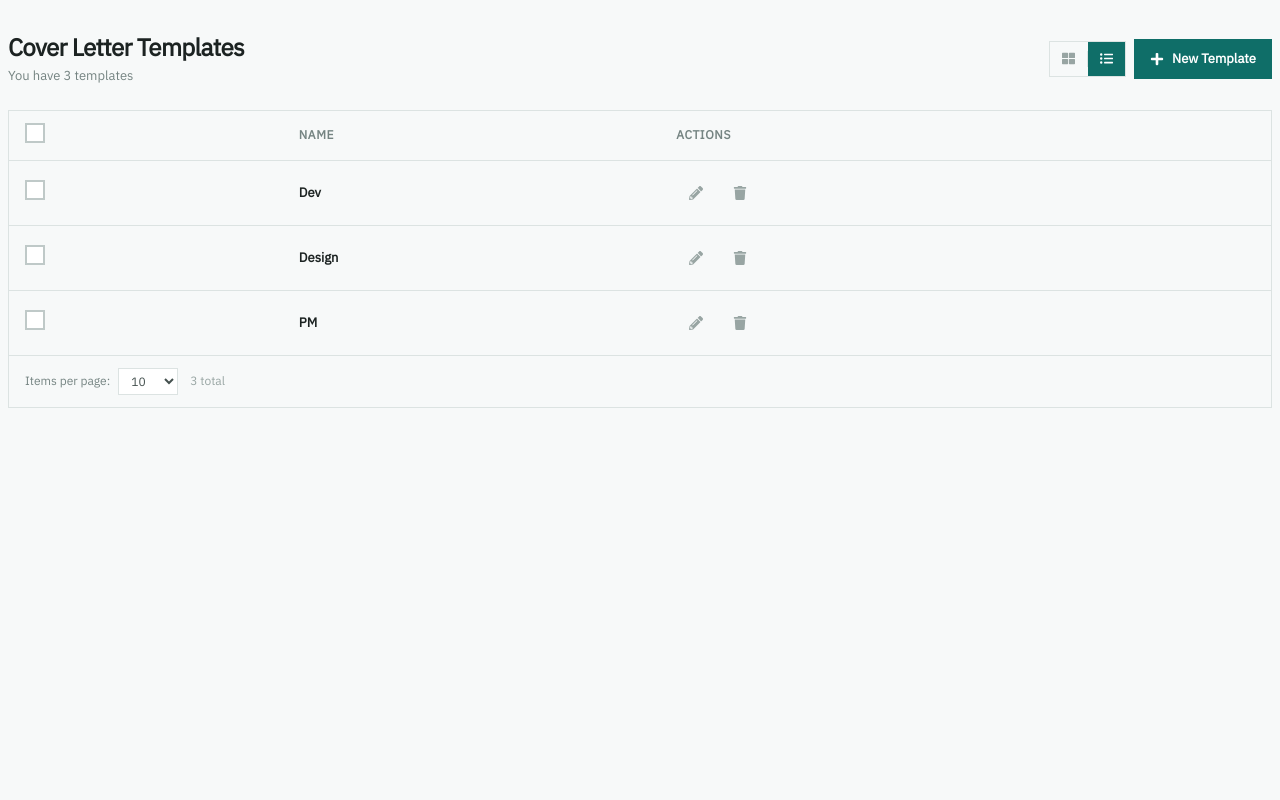
it: TemplatesView — CRUD operations › shows single delete confirm when delete button clicked
Expected: the text "Dev" is shown, [299,184,321,201]
Step 1. Click the button titled "Delete Template" in the row of "Dev" → click(740, 192), box [720,172,760,212]
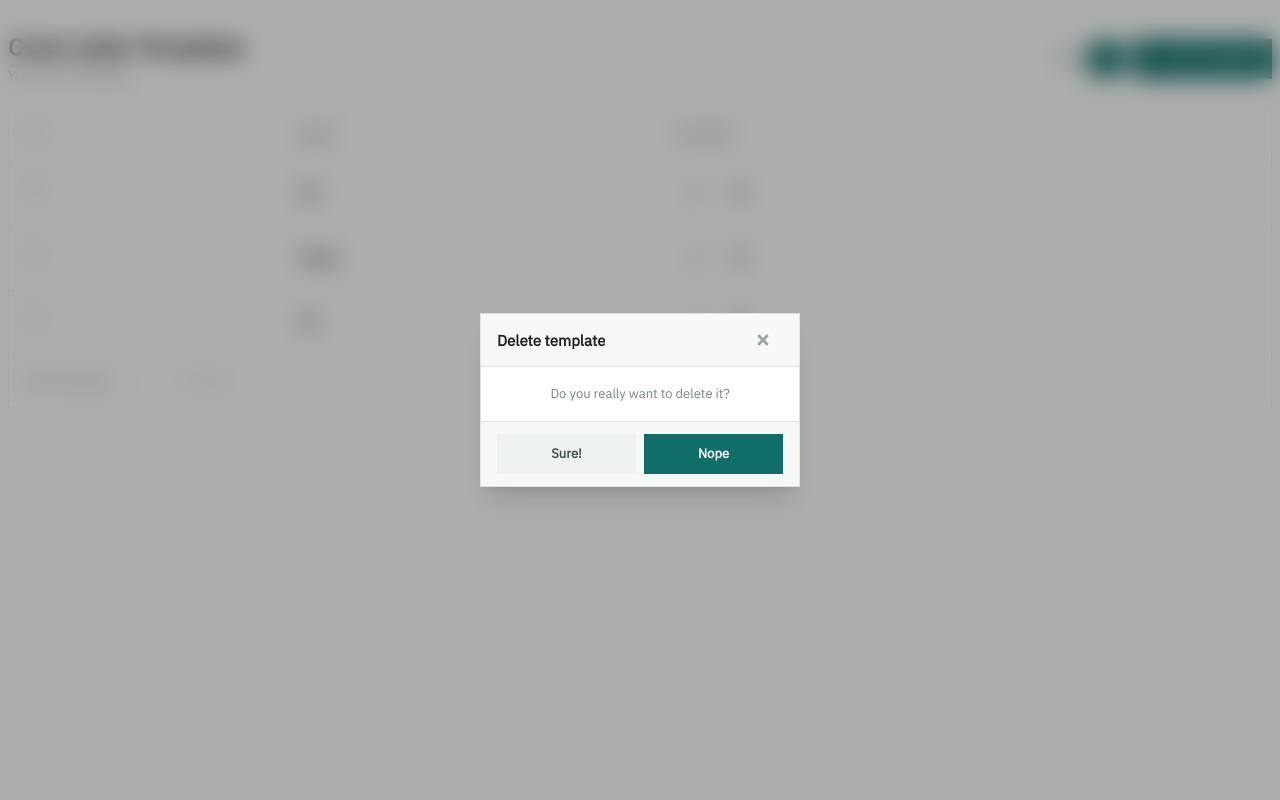
Expected: the heading "Delete template" is shown, [497,329,605,352]
